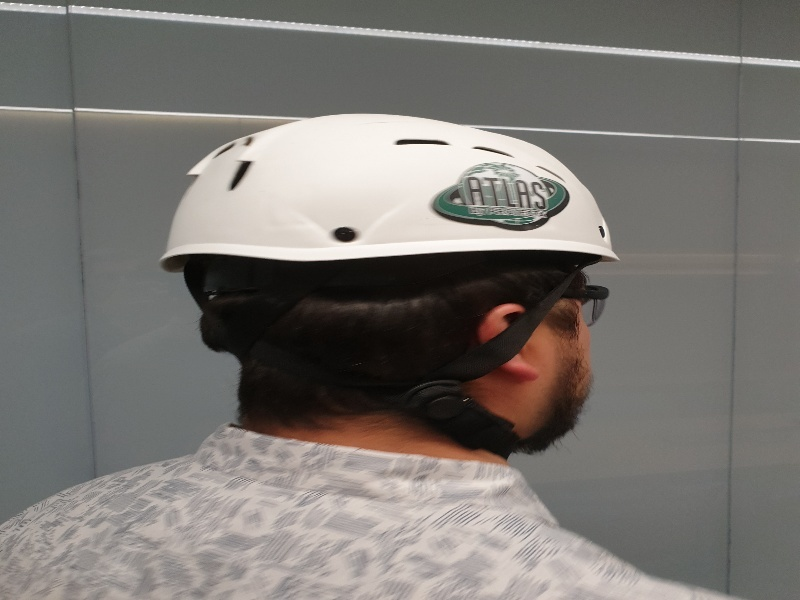Baret: (175, 118, 635, 271)
Gozluk: (569, 279, 604, 327)
